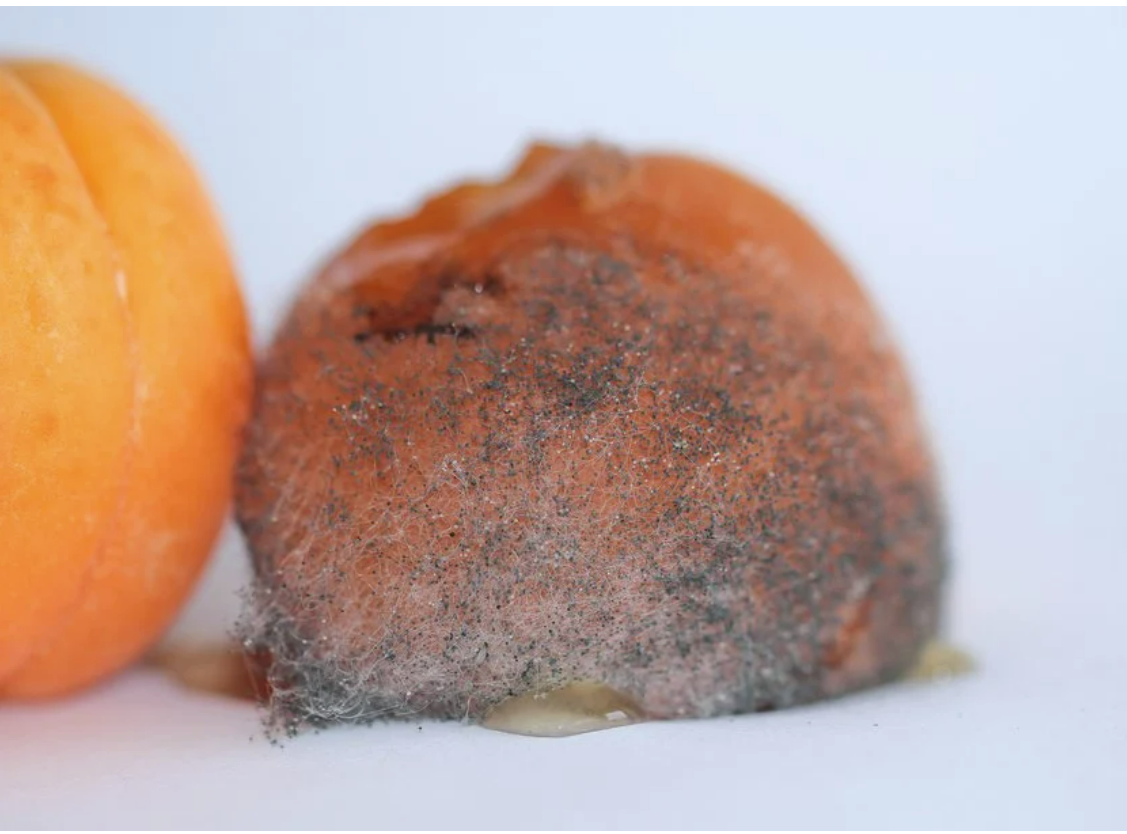Cladosporium: (506, 284, 940, 701), (234, 527, 534, 745), (356, 300, 503, 365)
